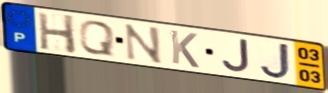H: (36, 11, 79, 56)
J: (258, 41, 293, 80), (220, 38, 251, 75)
K: (168, 28, 201, 70)
N: (123, 23, 165, 66)
Q: (78, 20, 116, 58)
